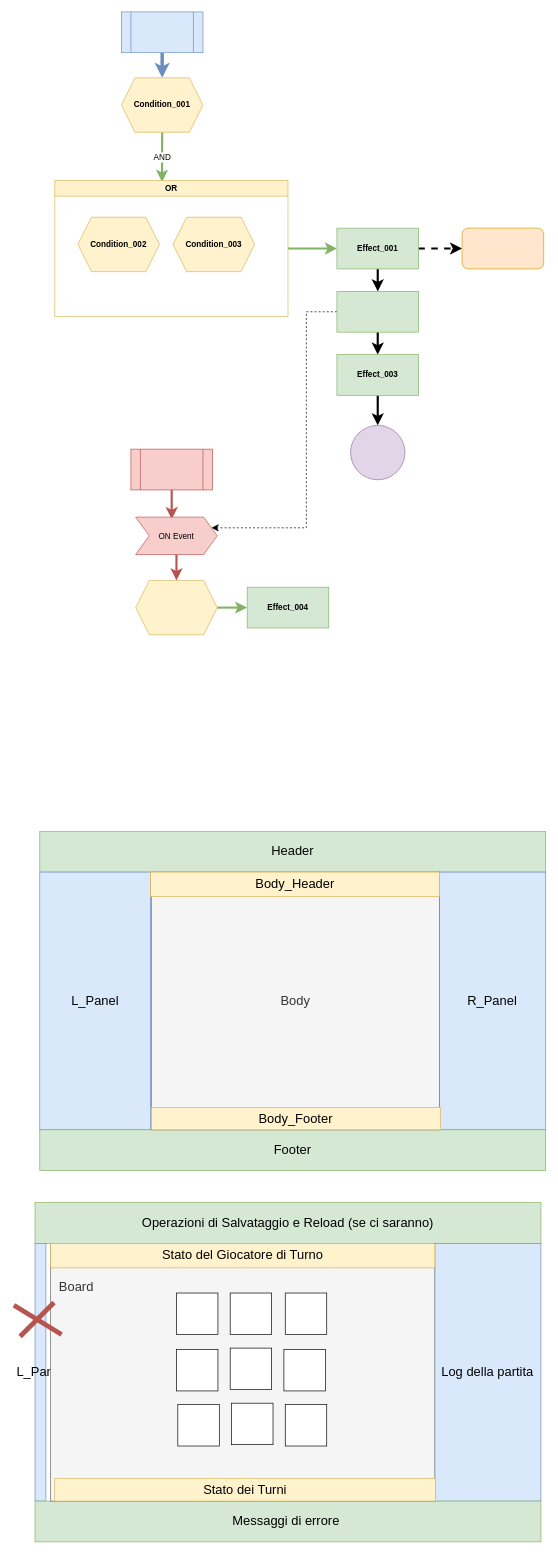
Image size: 558x1554. Some labels were removed from this diagram. The shapes that lost their labels are listed below. From the top down, each one's centre as x and y in pixels, then its label:
At point 162,32: "Rule_Name priority = 100".
At point 502,248: "Status_01".
At point 377,311: "Effect_002".
At point 171,469: "Trigger_Name priority = 100".
At point 377,452: "Target_01".
At point 176,607: "Condition_004".
